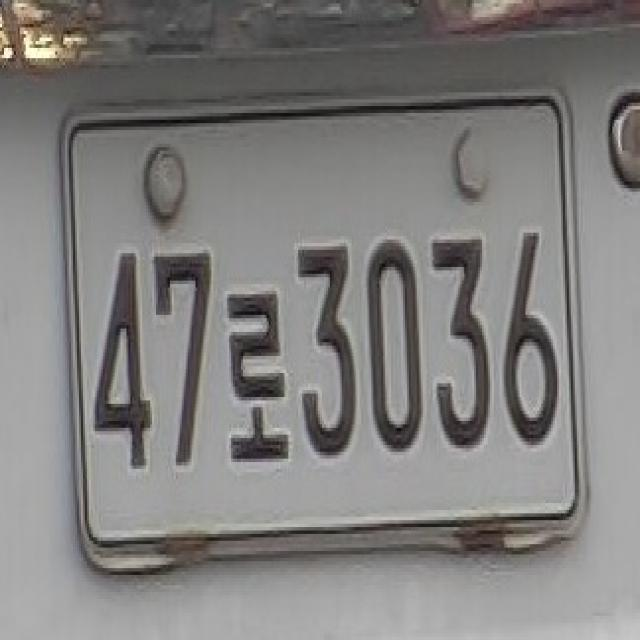0: (367, 227, 424, 484)
3: (290, 228, 362, 484), (428, 227, 493, 482)
4: (88, 240, 156, 496)
6: (500, 224, 566, 470)
7: (149, 242, 220, 485)
license_plate: (48, 63, 605, 618)
lo: (222, 275, 292, 485)
